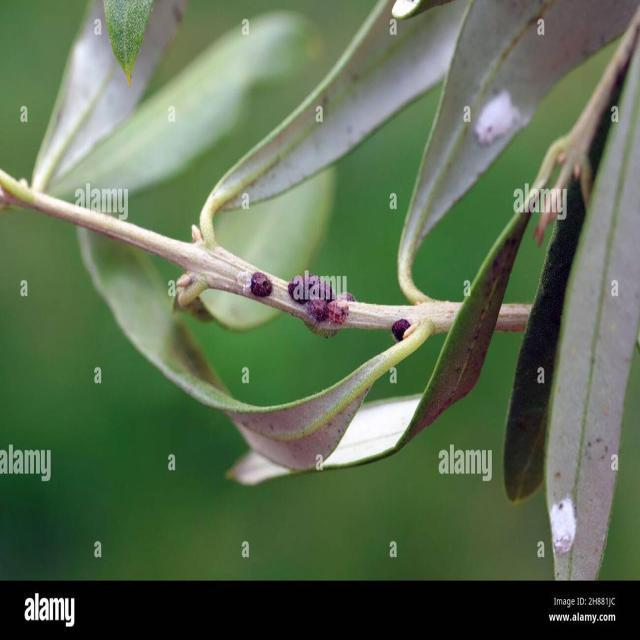BlackScale: (250, 272, 272, 298), (392, 318, 411, 342)
